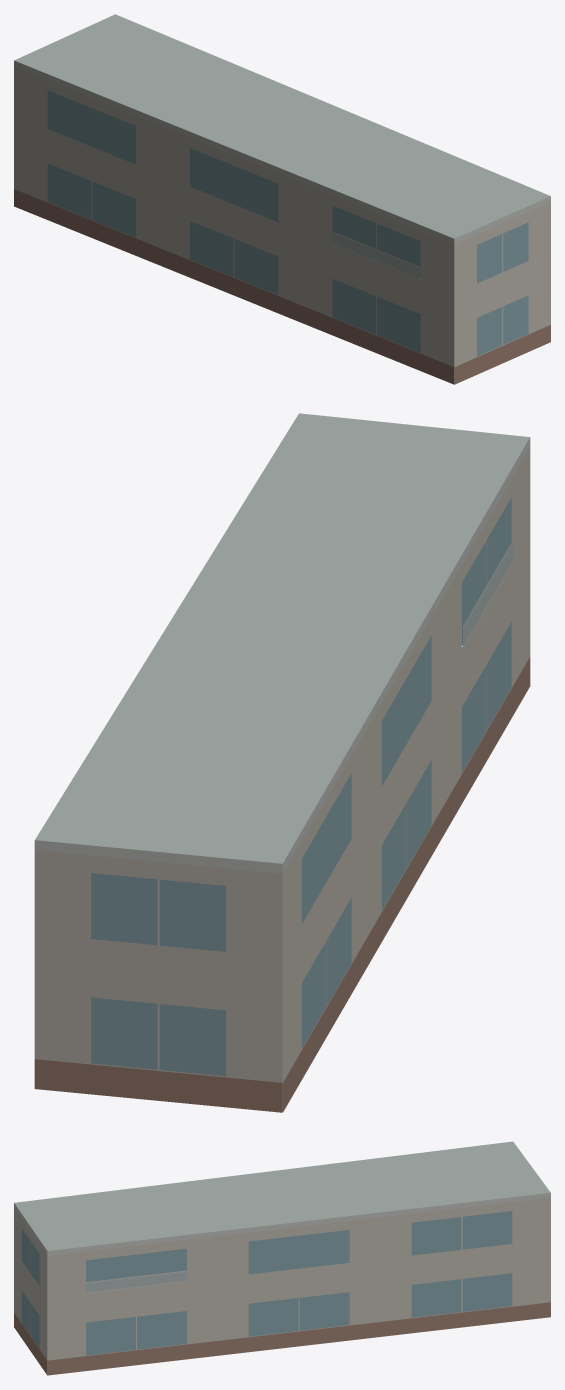
Rendered from survey-upis-32962858.glb.
3 renders of one model, top to bottom at view 1: azimuth 30°, elevation 25°; view 2: azimuth 150°, elevation 25°; view 3: azimuth 270°, elevation 25°, orthographic. The views are drawn at different scales.
Visible parts, largest first — view 1: survey-upis-32962858.tmp; view 2: survey-upis-32962858.tmp; view 3: survey-upis-32962858.tmp.
Part boxes in pixels (<box>): survey-upis-32962858.tmp: <box>14,14,550,384</box>; survey-upis-32962858.tmp: <box>34,413,530,1112</box>; survey-upis-32962858.tmp: <box>14,1141,550,1375</box>.
Bounding box in the file's own units: 11.54 × 6.1 × 23.86.
